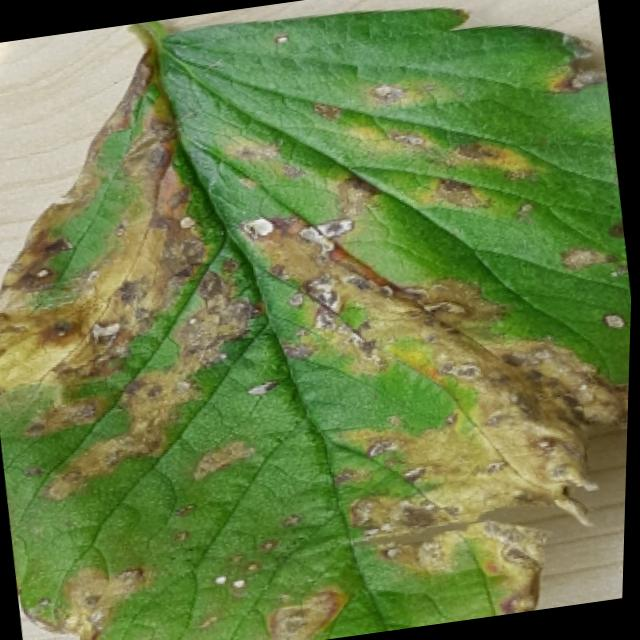Angular Leafspot: (0, 5, 633, 640)
